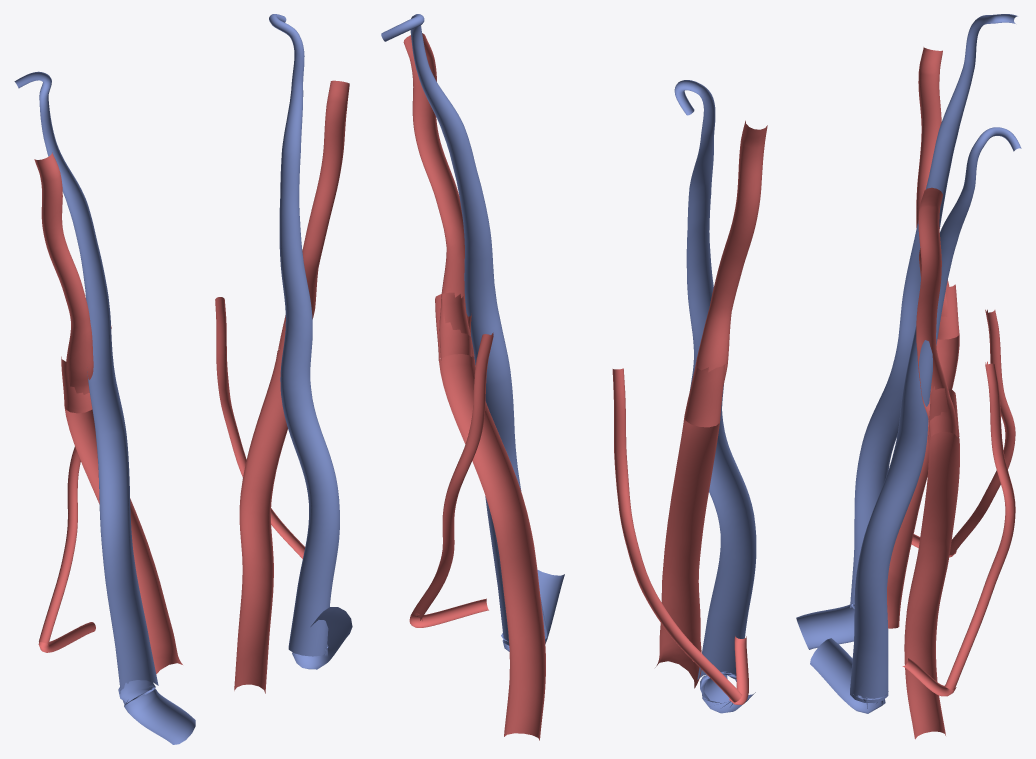
File: zanatomy-neckvessels.glb
3 renders of one model, left to right at view 1: azimuth 30°, elevation 25°; view 2: azimuth 150°, elevation 25°; view 3: azimuth 270°, elevation 25°, orthographic. The views are drawn at different scales.
Parts seen in each view (by area): view 1: zv_ijv_r, zv_ijv_l, zv_cca_l, zv_eca_r, zv_cca_r, zv_eca_l, zv_va_r, zv_va_l, zv_ica_r; view 2: zv_ijv_r, zv_cca_l, zv_ijv_l, zv_cca_r, zv_eca_l, zv_eca_r, zv_va_r, zv_va_l, zv_ica_r, zv_ica_l; view 3: zv_ijv_l, zv_ijv_r, zv_cca_l, zv_eca_l, zv_va_l, zv_cca_r, zv_eca_r, zv_va_r, zv_ica_r, zv_ica_l.
Part boxes in pixels (x1,y1,x2,y2): zv_ijv_r: (14,71,195,744); zv_ijv_l: (269,14,352,669); zv_cca_l: (234,349,287,693); zv_eca_r: (34,152,93,394); zv_cca_r: (64,407,182,673); zv_eca_l: (279,80,349,351); zv_va_r: (38,326,111,652); zv_va_l: (215,297,305,558); zv_ica_r: (61,356,92,413); zv_ijv_r: (674,80,756,713); zv_cca_l: (439,354,545,740); zv_ijv_l: (381,14,564,651); zv_cca_r: (655,417,719,688); zv_eca_l: (403,33,472,360); zv_eca_r: (691,120,767,385); zv_va_r: (612,368,748,704); zv_va_l: (409,332,493,627); zv_ica_r: (684,364,725,427); zv_ica_l: (435,292,474,360); zv_ijv_l: (810,127,1021,713); zv_ijv_r: (796,14,1017,649); zv_cca_l: (904,432,959,739); zv_eca_l: (916,187,957,439); zv_va_l: (902,361,1015,696); zv_cca_r: (887,335,959,628); zv_eca_r: (916,47,949,320); zv_va_r: (911,309,1015,557); zv_ica_r: (937,284,959,339); zv_ica_l: (928,386,959,439).
Bounding box in the file's own units: 0.0919 × 0.179 × 0.0571.
